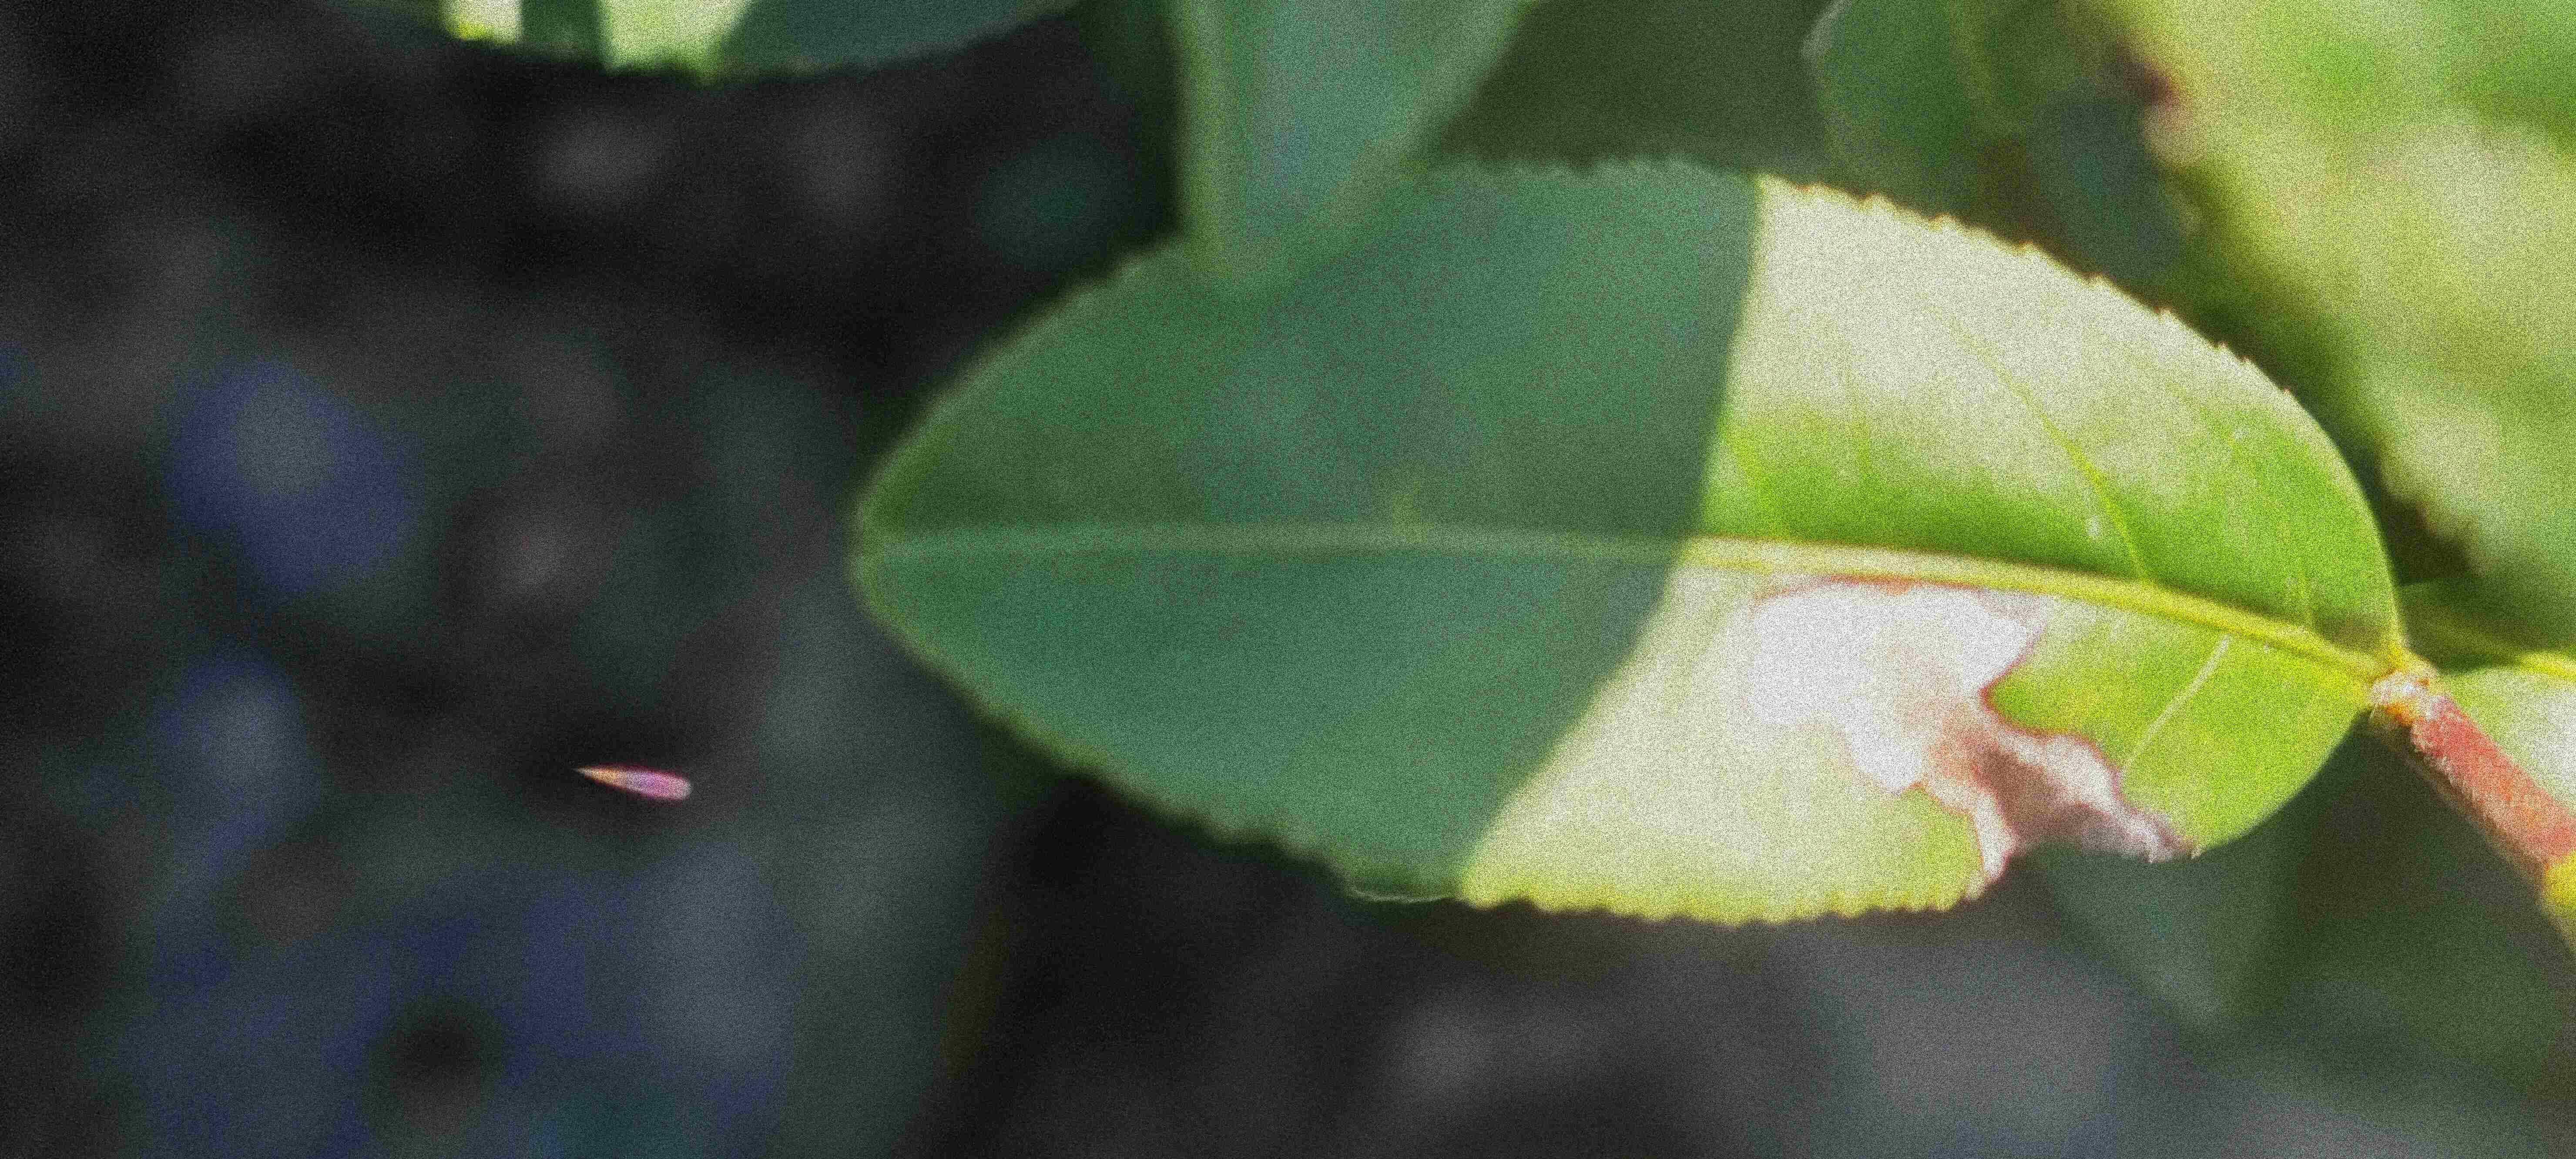tanju_high: (843, 153, 2403, 928)
